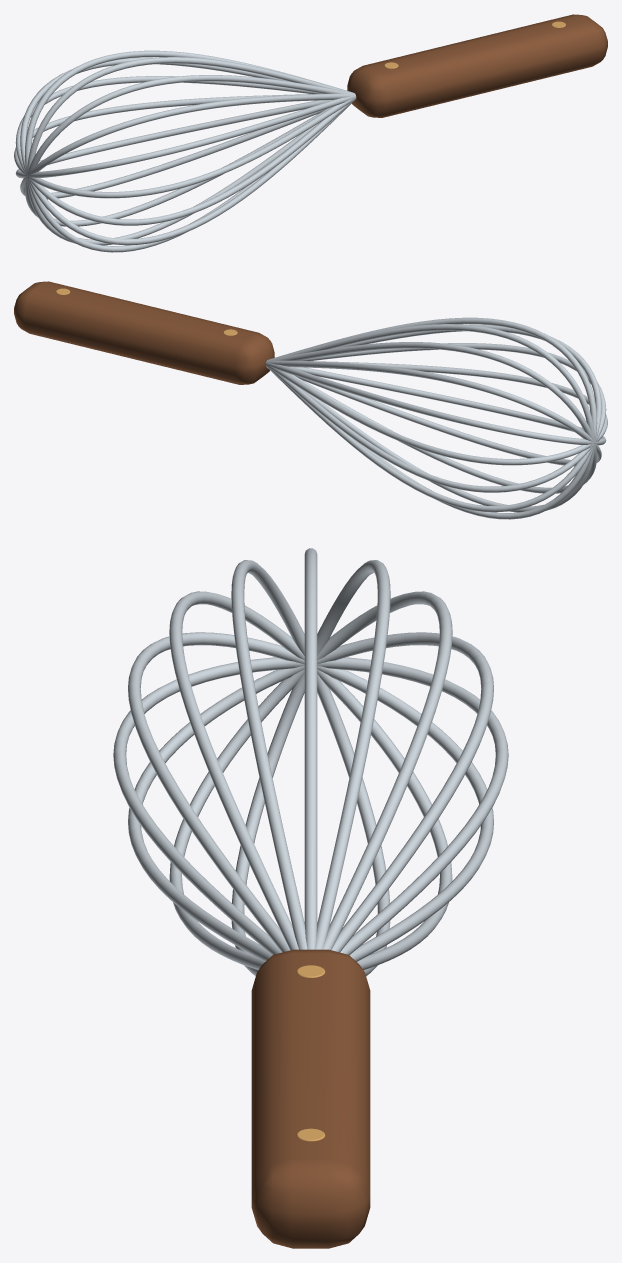
File: Whisk.glb
3 views of the same model, one above another, from view 1: azimuth 30°, elevation 25°; view 2: azimuth 150°, elevation 25°; view 3: azimuth 270°, elevation 25° (orthographic). The views are drawn at different scales.
Visible parts, largest first — view 1: Contoured grip.006, Balloon wire.007, Balloon wire.006, Balloon wire.004, Balloon wire.001, Balloon wire.005, Balloon wire, Balloon wire.002, Balloon wire.003; view 2: Contoured grip.006, Balloon wire.001, Balloon wire.002, Balloon wire.004, Balloon wire.007, Balloon wire.003, Balloon wire, Balloon wire.006, Balloon wire.005; view 3: Contoured grip.006, Balloon wire, Balloon wire.001, Balloon wire.007, Balloon wire.002, Balloon wire.006, Balloon wire.003, Balloon wire.005, Balloon wire.004.
Boxes of the visible parts, box(x1,y1,x2,y2) form: Contoured grip.006: box(347, 14, 607, 117); Balloon wire.007: box(15, 95, 356, 178); Balloon wire.006: box(20, 93, 355, 199); Balloon wire.004: box(27, 57, 354, 245); Balloon wire.001: box(15, 76, 355, 225); Balloon wire.005: box(25, 75, 354, 226); Balloon wire: box(14, 94, 356, 198); Balloon wire.002: box(20, 57, 355, 245); Balloon wire.003: box(24, 50, 341, 252); Contoured grip.006: box(14, 281, 274, 384); Balloon wire.001: box(265, 362, 606, 445); Balloon wire.002: box(266, 360, 601, 466); Balloon wire.004: box(267, 324, 594, 512); Balloon wire.007: box(266, 343, 606, 492); Balloon wire.003: box(267, 342, 596, 493); Balloon wire: box(265, 361, 607, 465); Balloon wire.006: box(266, 324, 601, 512); Balloon wire.005: box(280, 317, 597, 519); Contoured grip.006: box(251, 949, 370, 1248); Balloon wire: box(113, 657, 508, 955); Balloon wire.001: box(128, 632, 493, 961); Balloon wire.007: box(128, 632, 493, 961); Balloon wire.002: box(169, 591, 452, 970); Balloon wire.006: box(169, 591, 452, 970); Balloon wire.003: box(231, 560, 390, 976); Balloon wire.005: box(231, 560, 390, 976); Balloon wire.004: box(304, 548, 317, 949).
Size of the model in its own units: 0.2562 by 0.0764 by 0.0765.
